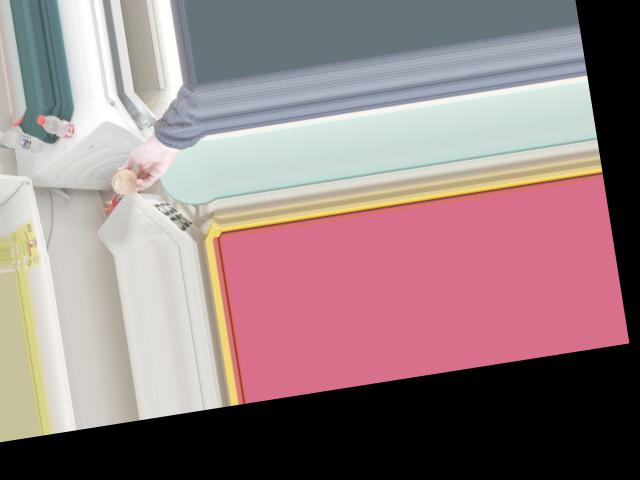sweet_potato: (110, 167, 142, 193)
